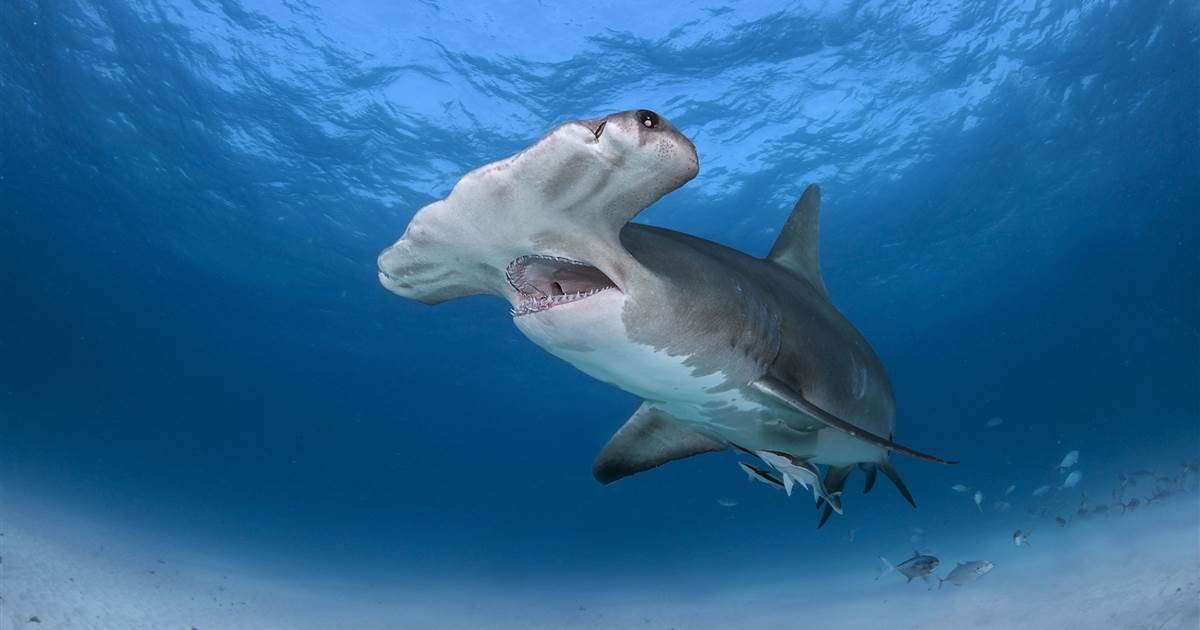shark: (351, 91, 979, 530)
